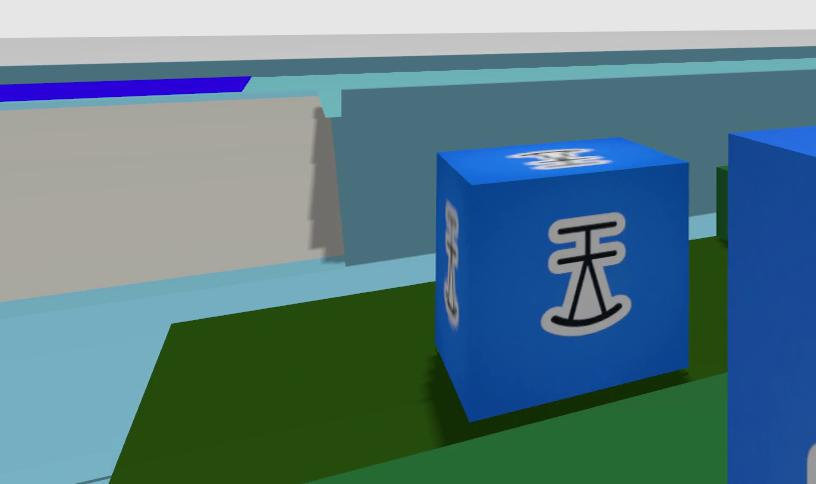KFS_FAKE: (396, 133, 717, 419), (540, 213, 631, 336)
KFS_REAL: (428, 138, 689, 420), (806, 444, 815, 483)
